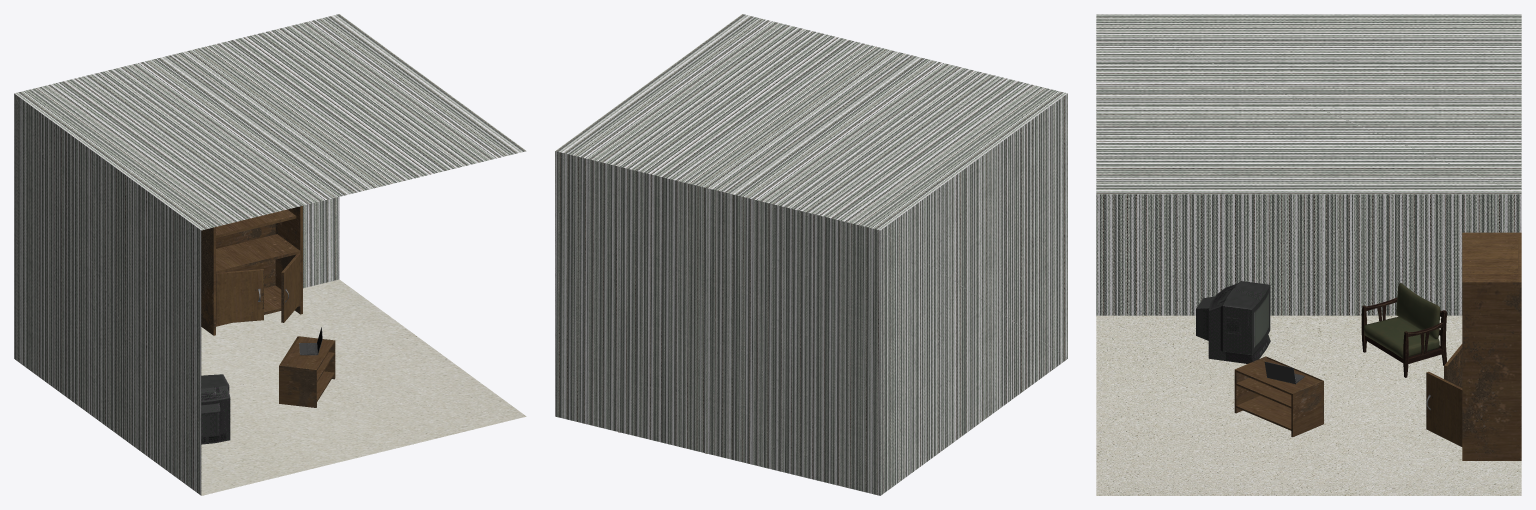
File: room.glb
3 renders of one model, left to right at view 1: azimuth 30°, elevation 25°; view 2: azimuth 150°, elevation 25°; view 3: azimuth 270°, elevation 25°, orthographic. The views are drawn at different scales.
Parts seen in each view (by area): view 1: room, closet, low table, TVLow; view 2: room; view 3: room, closet, TVLow, low table, sofa, laptop.
Part boxes in pixels (x1,y1,x2,y2): room: (14,14,526,495); closet: (201,206,302,335); low table: (279,336,335,407); TVLow: (201,374,230,444); room: (555,14,1067,495); room: (1096,14,1521,495); closet: (1426,232,1521,460); TVLow: (1196,281,1270,363); low table: (1234,356,1323,437); sofa: (1361,283,1446,377); laptop: (1264,361,1304,384).
Size of the model in its own units: 21.52 by 16.8 by 21.46.
Materials: 7 (6 with a texture image).
